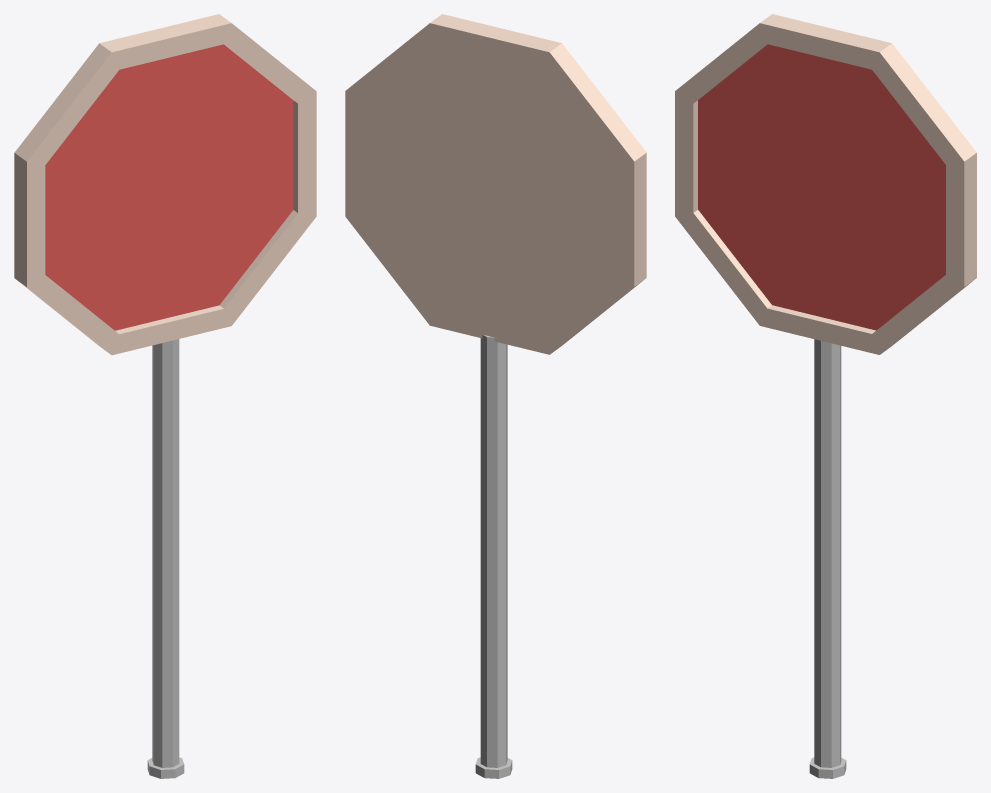
File: SeñalPare.fbx
The picture shows the model from 3 angles, left to right: view 1: azimuth 30°, elevation 25°; view 2: azimuth 150°, elevation 25°; view 3: azimuth 330°, elevation 25°; orthographic projection.
Parts seen in each view (by area): view 1: stop_sign; view 2: stop_sign; view 3: stop_sign.
Part boxes in pixels (box(x1,y1,x2,y2)): stop_sign: box(14, 14, 316, 778); stop_sign: box(345, 14, 646, 778); stop_sign: box(675, 14, 976, 778).
Size of the model in its own units: 136 by 331 by 15.37.
